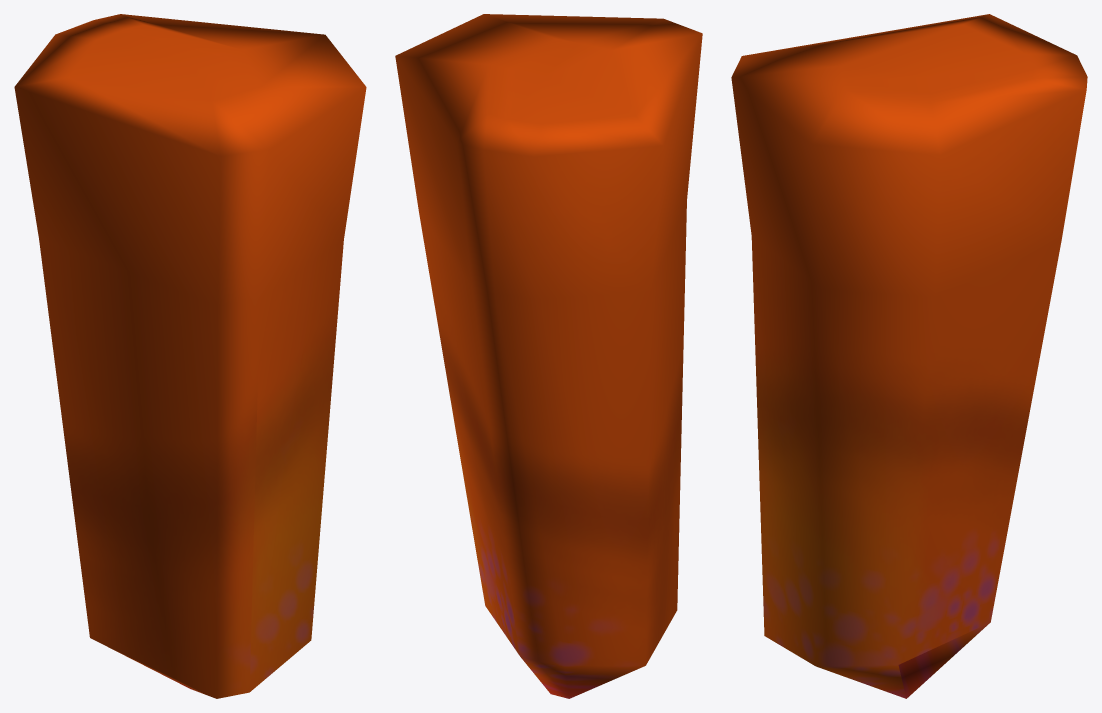
Rendered from akamaru_leg_l.obj.
3 views of the same model, side by side, from view 1: azimuth 30°, elevation 25°; view 2: azimuth 150°, elevation 25°; view 3: azimuth 270°, elevation 25° (orthographic). The views are drawn at different scales.
Visible parts, largest first — view 1: RED_LEG_L; view 2: RED_LEG_L; view 3: RED_LEG_L.
Boxes of the visible parts, <box> form: RED_LEG_L: <box>14,14,366,698</box>; RED_LEG_L: <box>395,14,702,698</box>; RED_LEG_L: <box>731,14,1087,698</box>.
Bounding box in the file's own units: 0.2941 × 0.6017 × 0.3128.
1 material, 1 textured.
